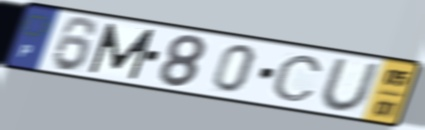0: (210, 42, 259, 96)
6: (49, 15, 98, 74)
8: (158, 33, 208, 88)
C: (269, 53, 325, 103)
M: (85, 21, 158, 82)
U: (319, 56, 382, 114)
